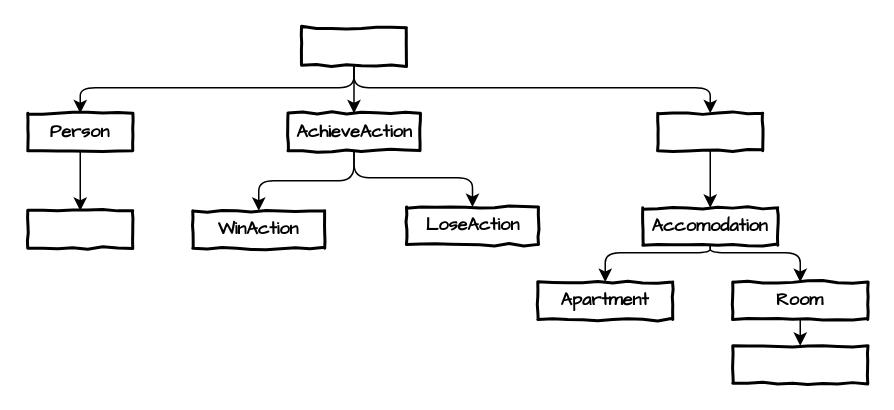
Image size: 894x410. Some labels were removed from this diagram. Each missing label, with the centre of its shape:
"HotelRoom" goes at [799,364].
"Patient" goes at [80,228].
"Place" goes at [710,131].
"Thing" goes at [353,46].
